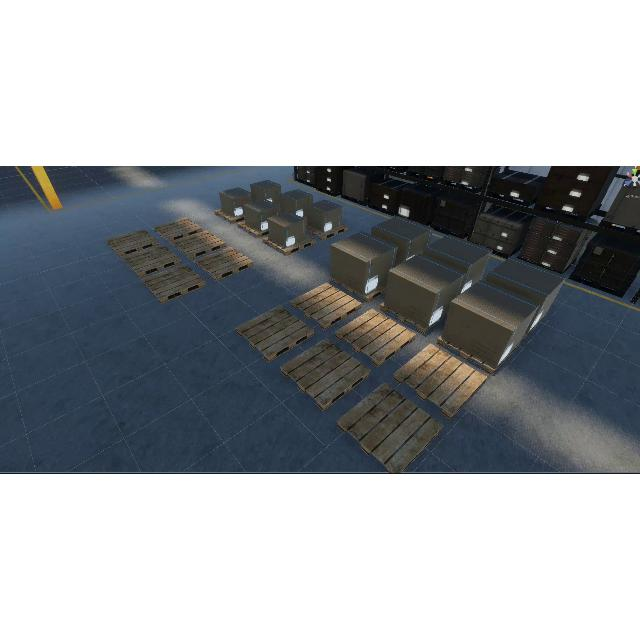wooden_pallet: (393, 343, 487, 420), (280, 339, 370, 411), (335, 308, 416, 367), (290, 283, 361, 331), (437, 335, 521, 375), (141, 263, 206, 304), (194, 246, 254, 281), (380, 305, 448, 335), (334, 279, 387, 304), (262, 234, 316, 256), (307, 223, 349, 240), (237, 221, 269, 238)
